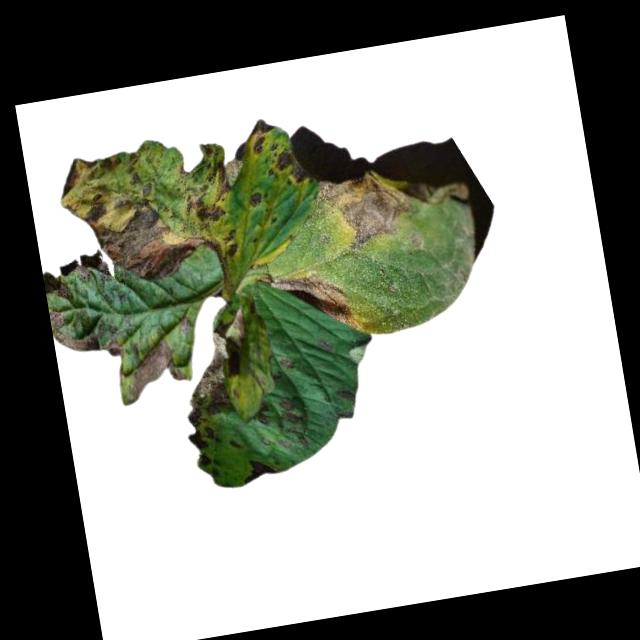Early_blight: (44, 137, 208, 296), (311, 157, 477, 257), (168, 309, 261, 428), (264, 267, 361, 347), (49, 299, 122, 367), (120, 333, 190, 402), (184, 140, 235, 228), (265, 149, 311, 190), (246, 115, 279, 158), (241, 457, 281, 485), (184, 424, 220, 454), (218, 228, 241, 261), (278, 398, 298, 426), (244, 189, 265, 210)
